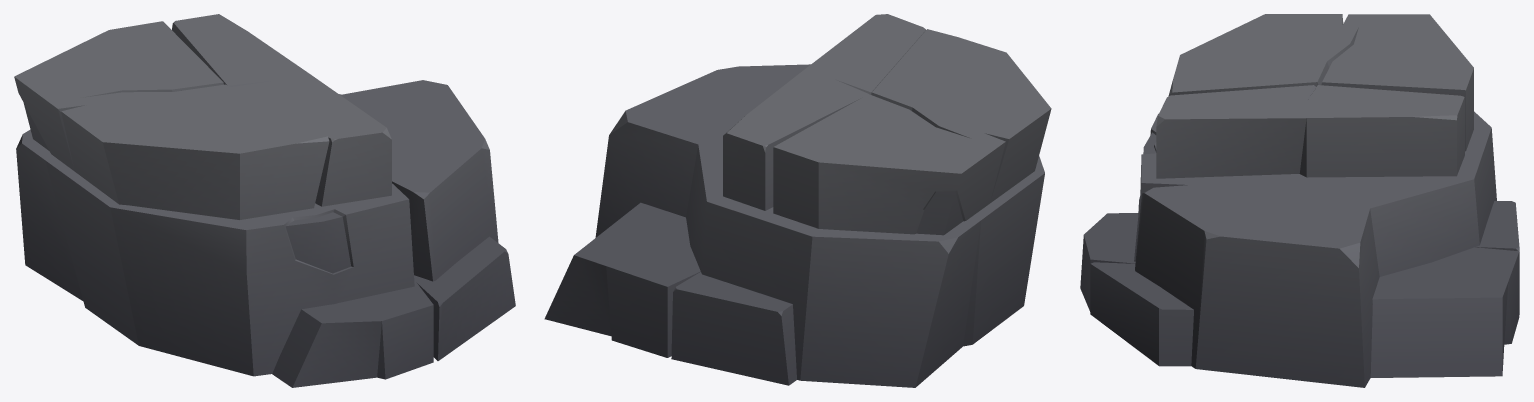
The model's file is BigRock_03.fbx.
3 views of the same model, side by side, from view 1: azimuth 30°, elevation 25°; view 2: azimuth 150°, elevation 25°; view 3: azimuth 270°, elevation 25° (orthographic). The views are drawn at different scales.
Parts seen in each view (by area): view 1: BigRock_03_LOD0; view 2: BigRock_03_LOD0; view 3: BigRock_03_LOD0.
Part boxes in pixels (bbox=[...]): BigRock_03_LOD0: bbox=[14, 14, 515, 387]; BigRock_03_LOD0: bbox=[544, 14, 1051, 387]; BigRock_03_LOD0: bbox=[1080, 14, 1519, 387].
Size of what is drawn, in the model's own units: 5.82 by 2.87 by 5.93.
